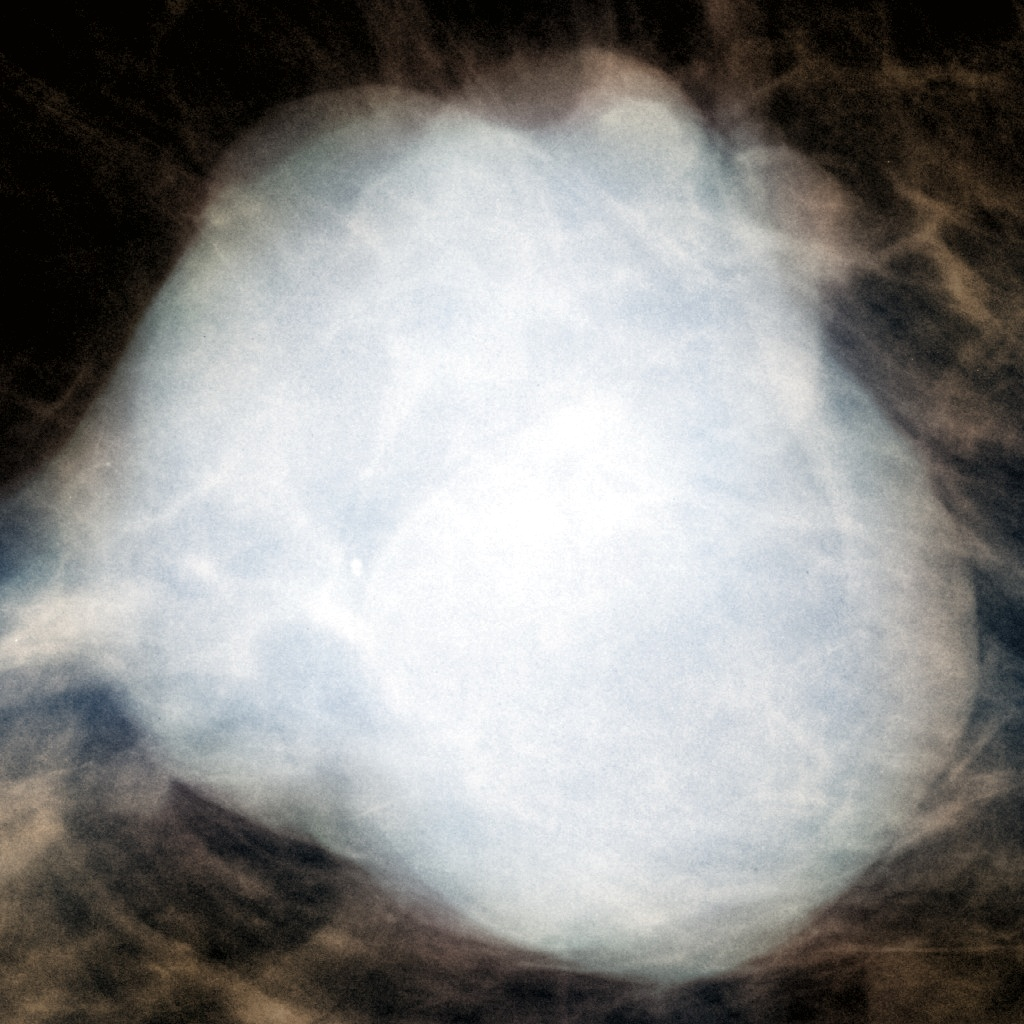tumor: (34, 52, 990, 972)
